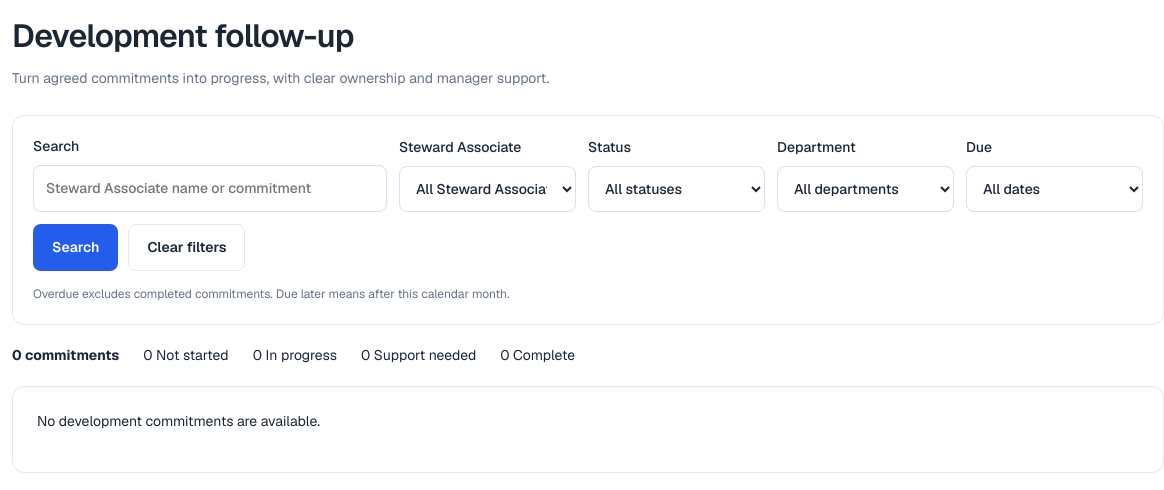
Test: shows the appropriate person empty state
Expected: the text "No development commitments are available." is shown, x1=37 y1=412 x2=320 y2=430
Step 1. Select "Alex Steward Associate · Analyst" in the dropdown labelled "Steward Associate" → (488, 189), box x1=399 y1=166 x2=576 y2=212
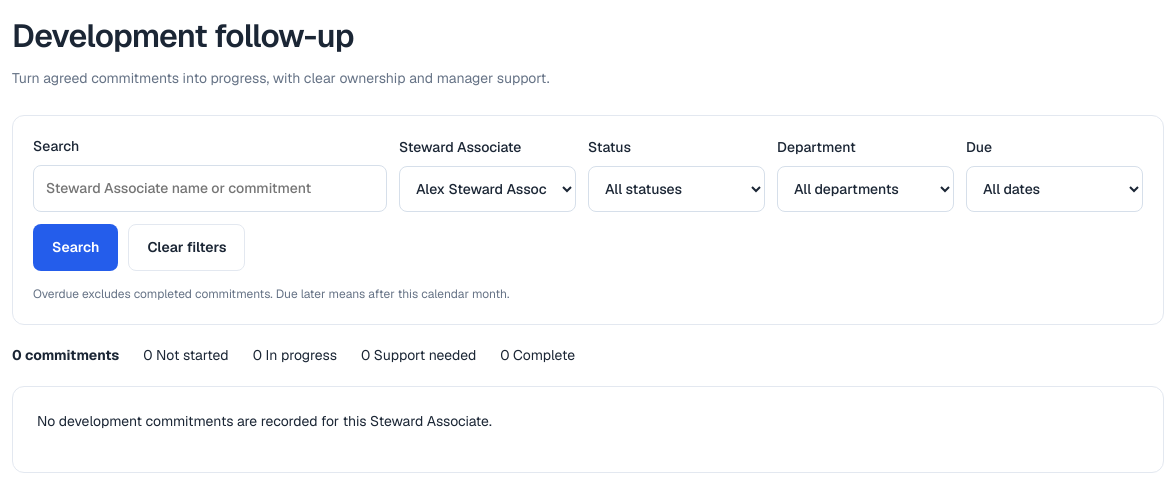
Expected: the text "No development commitments are recorded for this Steward Associate." is shown, x1=37 y1=412 x2=492 y2=430
